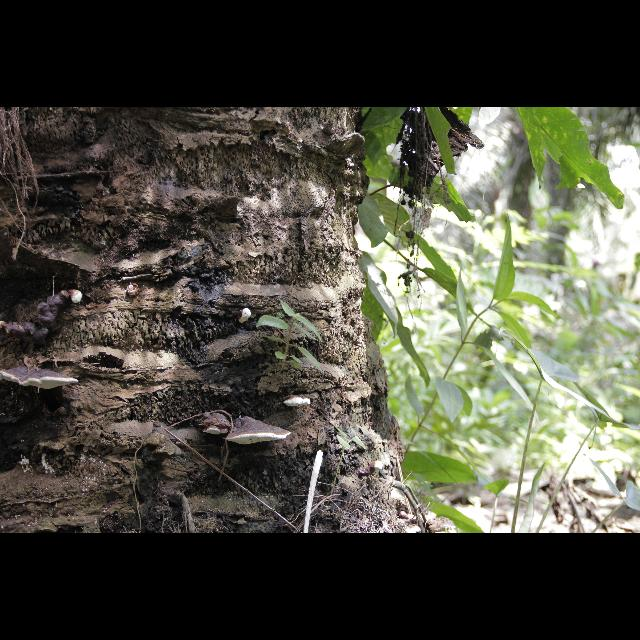ganoderma: (7, 291, 69, 347), (227, 418, 292, 447), (1, 367, 79, 391), (195, 414, 234, 437), (427, 518, 458, 535), (283, 396, 312, 408)
primordium: (356, 462, 384, 479), (237, 310, 251, 325), (70, 291, 83, 306), (2, 322, 7, 332)
